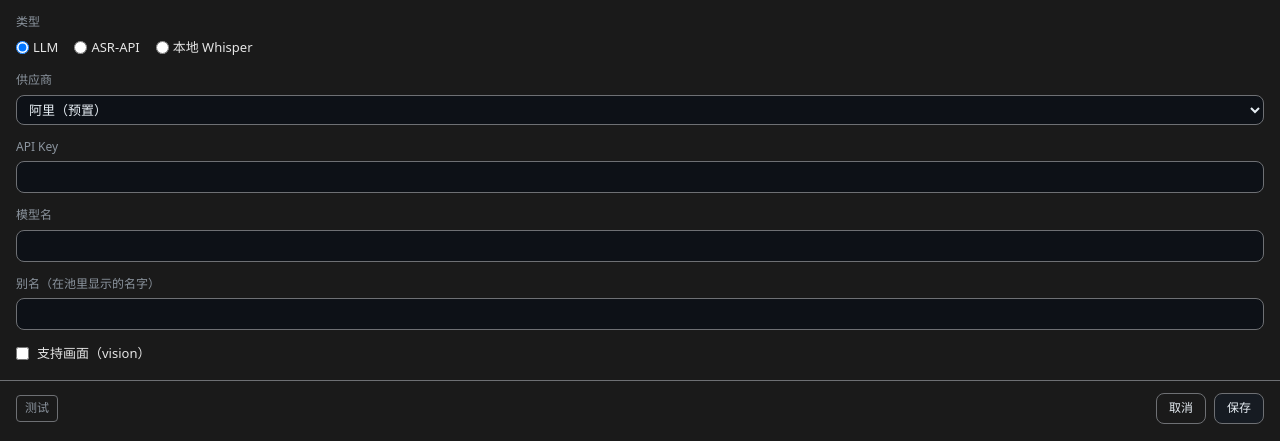
Test: AC-LV-14 settings mutation feedback › keeps the add form open and shows the persistence error
Type "model-a" into the field named "模型名" at (640, 246), box [16, 230, 1264, 262]
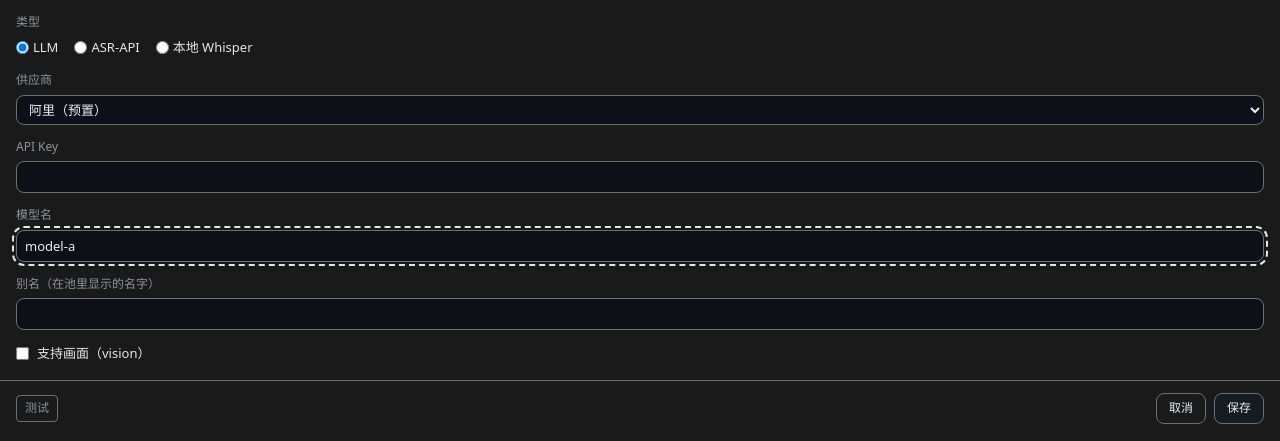
Click the button "保存" at (1239, 409), box [1214, 393, 1264, 424]
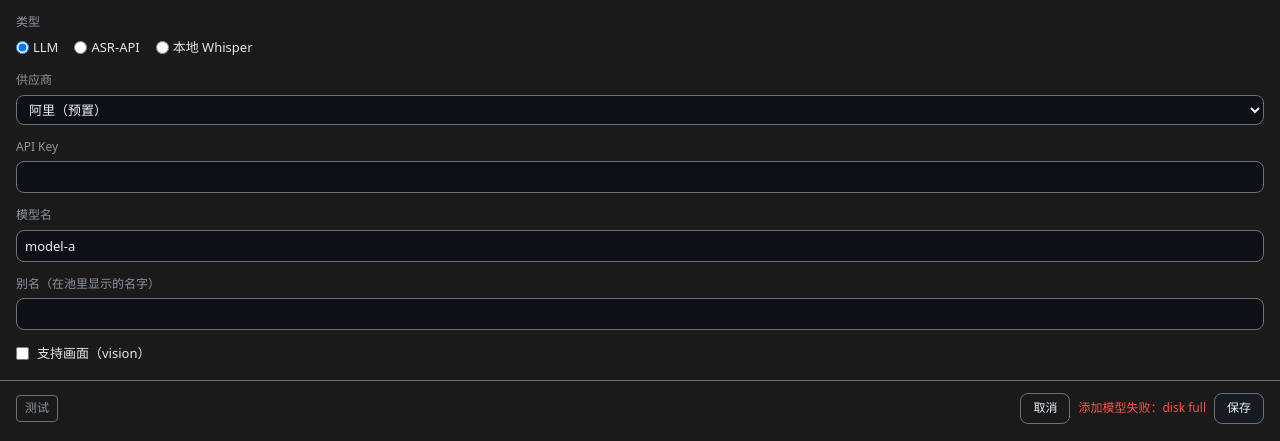
expect the message reads "添加模型失败：disk full": met, box [1078, 399, 1206, 416]
